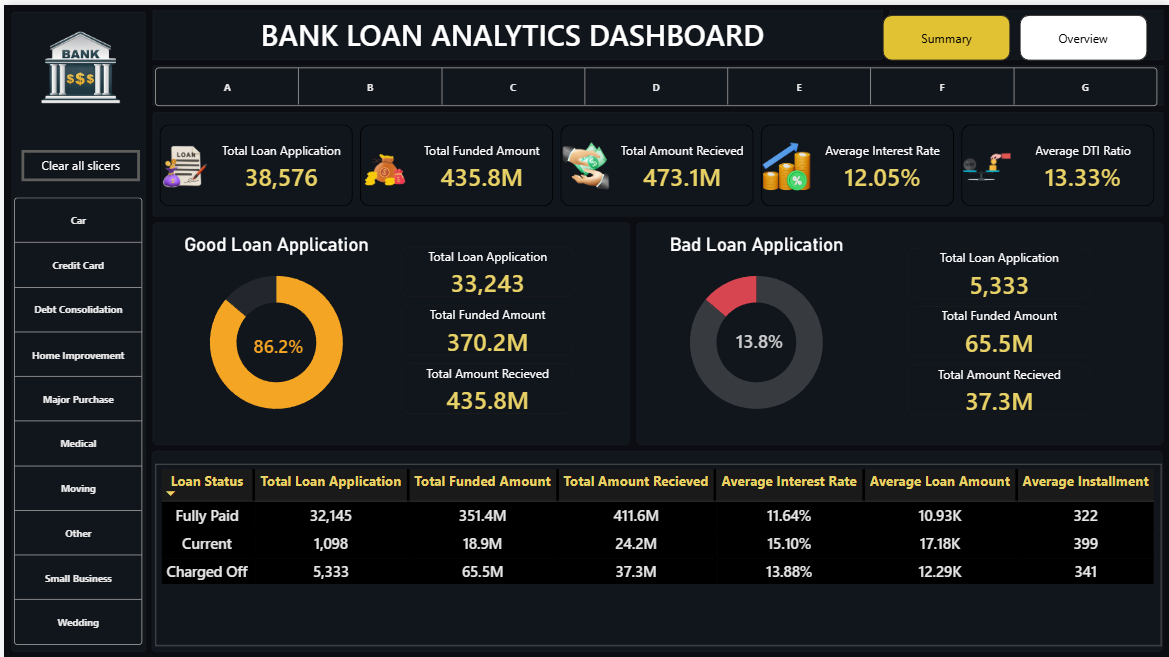

What the dashboard file says about the page in this screenshot:
{"tool":"powerbi","page":{"name":"Summary","canvas":[1280,720],"ordinal":0},"visuals":[{"type":"cardVisual","fields":{"Data":["Table.Total Loan Application","Table.Total Funded Amount","Table.Total Amount Recieved","Table.Average Interest Rate","Table.Average DTI Ratio"]},"box":[165.7,125.7,1104.3,100],"z":0},{"type":"donutChart","title":"Good Loan Application","fields":{"Y":["Table.Total Loan Application"],"Category":["financial_loan.Custom"]},"box":[175.7,251.4,247.1,215.7],"z":1000},{"type":"cardVisual","fields":{"Data":["Table.Good Loan Percentage"]},"box":[268.6,331.4,80,81.4],"z":2000},{"type":"donutChart","title":"Bad Loan Application","fields":{"Y":["Table.Total Loan Application"],"Category":["financial_loan.Custom"]},"box":[702.9,251.4,247.1,215.7],"z":3000},{"type":"cardVisual","fields":{"Data":["Table.Bad Loan Percentage"]},"box":[798.6,331.4,90,71.4],"z":4000},{"type":"cardVisual","title":"HEY","fields":{"Data":["Table.Total Loan Application","Table.Total Funded Amount","Table.Total Amount Recieved"],"Rows":["financial_loan.Good_or_bad_loan"]},"box":[412.9,240,275.7,235.7],"z":5000},{"type":"cardVisual","title":"HEY","fields":{"Data":["Table.Total Loan Application","Table.Total Funded Amount","Table.Total Amount Recieved"],"Rows":["financial_loan.Good_or_bad_loan"]},"box":[968.6,241.4,275.7,235.7],"z":6000},{"type":"tableEx","fields":{"Values":["financial_loan.LOAN_STATUS","Table.Total Loan Application","Table.Total Funded Amount","Table.Total Amount Recieved","Table.Average Interest Rate","Avg(financial_loan.LOAN_AMOUNT)","Avg(financial_loan.INSTALLMENT)"]},"box":[166,503.6,1104.6,200.3],"z":7000},{"type":"advancedSlicerVisual","fields":{"Values":["financial_loan.PURPOSE"]},"box":[11.4,211.4,141.4,492.9],"z":8000},{"type":"actionButton","box":[18.6,158.6,130,34.3],"z":9000},{"type":"image","box":[22.9,11.4,121.4,114.3],"z":10000},{"type":"advancedSlicerVisual","fields":{"Values":["financial_loan.GRADE"]},"box":[165.7,68.6,1104.3,42.9],"z":11000},{"type":"textbox","box":[165.7,11.4,784.3,52.9],"z":12000},{"type":"pageNavigator","box":[964.3,11.4,291.4,50],"z":13000}]}

Visuals, with their boxes in screenshot pixels (x1, y1, x2, y2), scaled from the page's 1280x720 canvas onto the 1169x657 screenshot:
cardVisual - Table.Total Loan Application x Table.Total Funded Amount: crop(151, 115, 1160, 206)
"Good Loan Application" donutChart: crop(160, 229, 386, 426)
cardVisual - Table.Good Loan Percentage: crop(245, 302, 318, 377)
"Bad Loan Application" donutChart: crop(642, 229, 868, 426)
cardVisual - Table.Bad Loan Percentage: crop(729, 302, 812, 368)
"HEY" cardVisual: crop(377, 219, 629, 434)
"HEY" cardVisual: crop(885, 220, 1136, 435)
tableEx - financial_loan.LOAN_STATUS x Table.Total Loan Application: crop(152, 460, 1160, 642)
advancedSlicerVisual - financial_loan.PURPOSE: crop(10, 193, 140, 643)
actionButton: crop(17, 145, 136, 176)
image: crop(21, 10, 132, 115)
advancedSlicerVisual - financial_loan.GRADE: crop(151, 63, 1160, 102)
textbox: crop(151, 10, 868, 59)
pageNavigator: crop(881, 10, 1147, 56)
